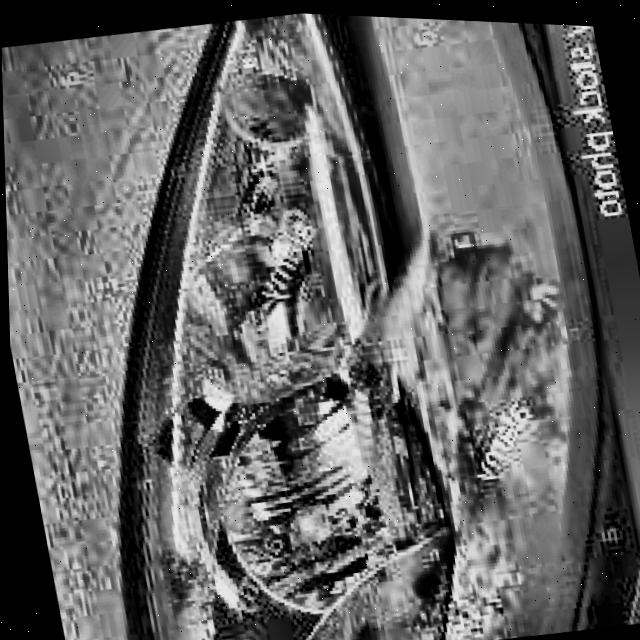head_lamp: (96, 309, 447, 640)
